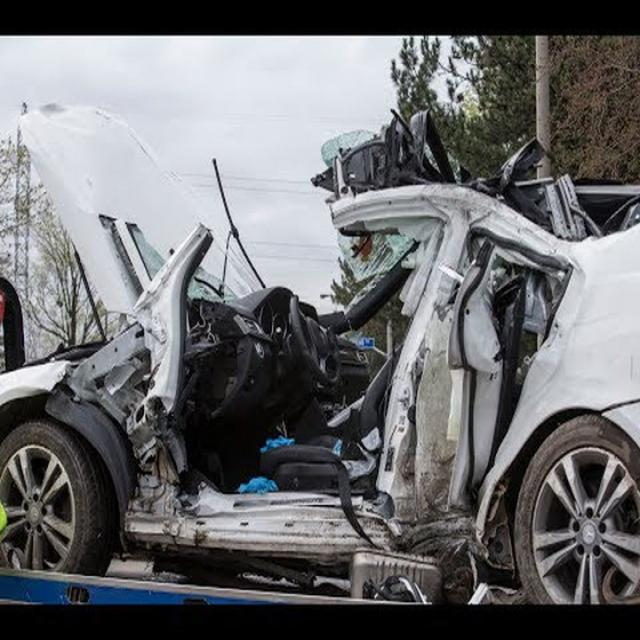Accident: (0, 89, 639, 600)
